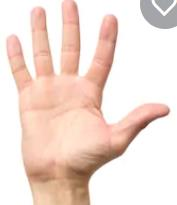down: (5, 1, 172, 179)
